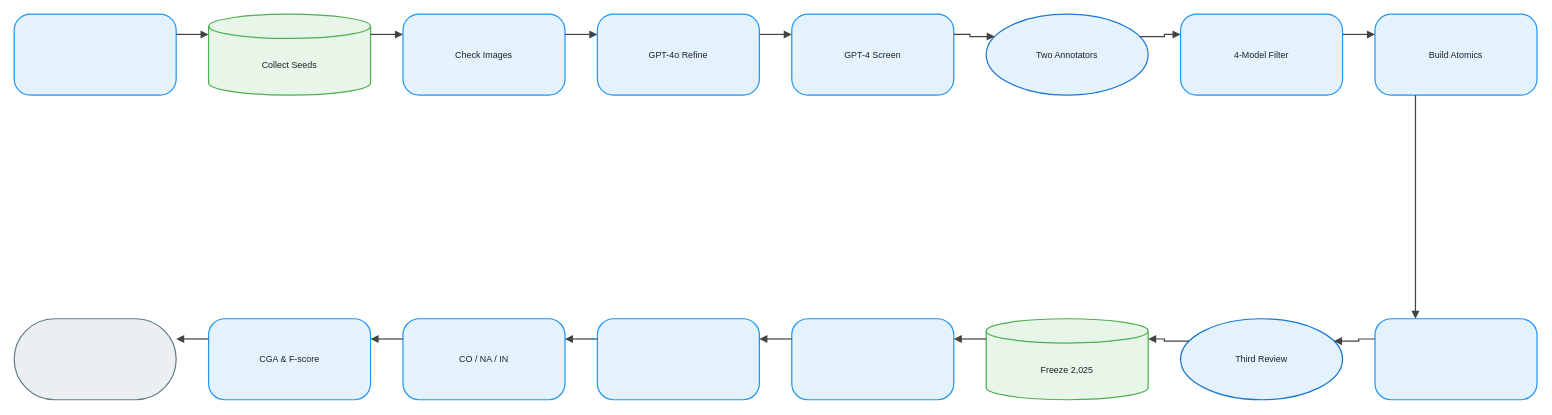
The diagram is 1552 pixels wide and 415 high, and some of its shapes have lost their labels. Here are the shapes that lost their labels. From the top down, the box of each, then its label:
(13, 13, 176, 95): Set 9x9 Scope
(13, 318, 176, 400): Slice & CFQ
(596, 318, 760, 400): GPT-4o Judge
(791, 318, 954, 400): Image + Query
(1374, 318, 1537, 400): Check 2 URLs
